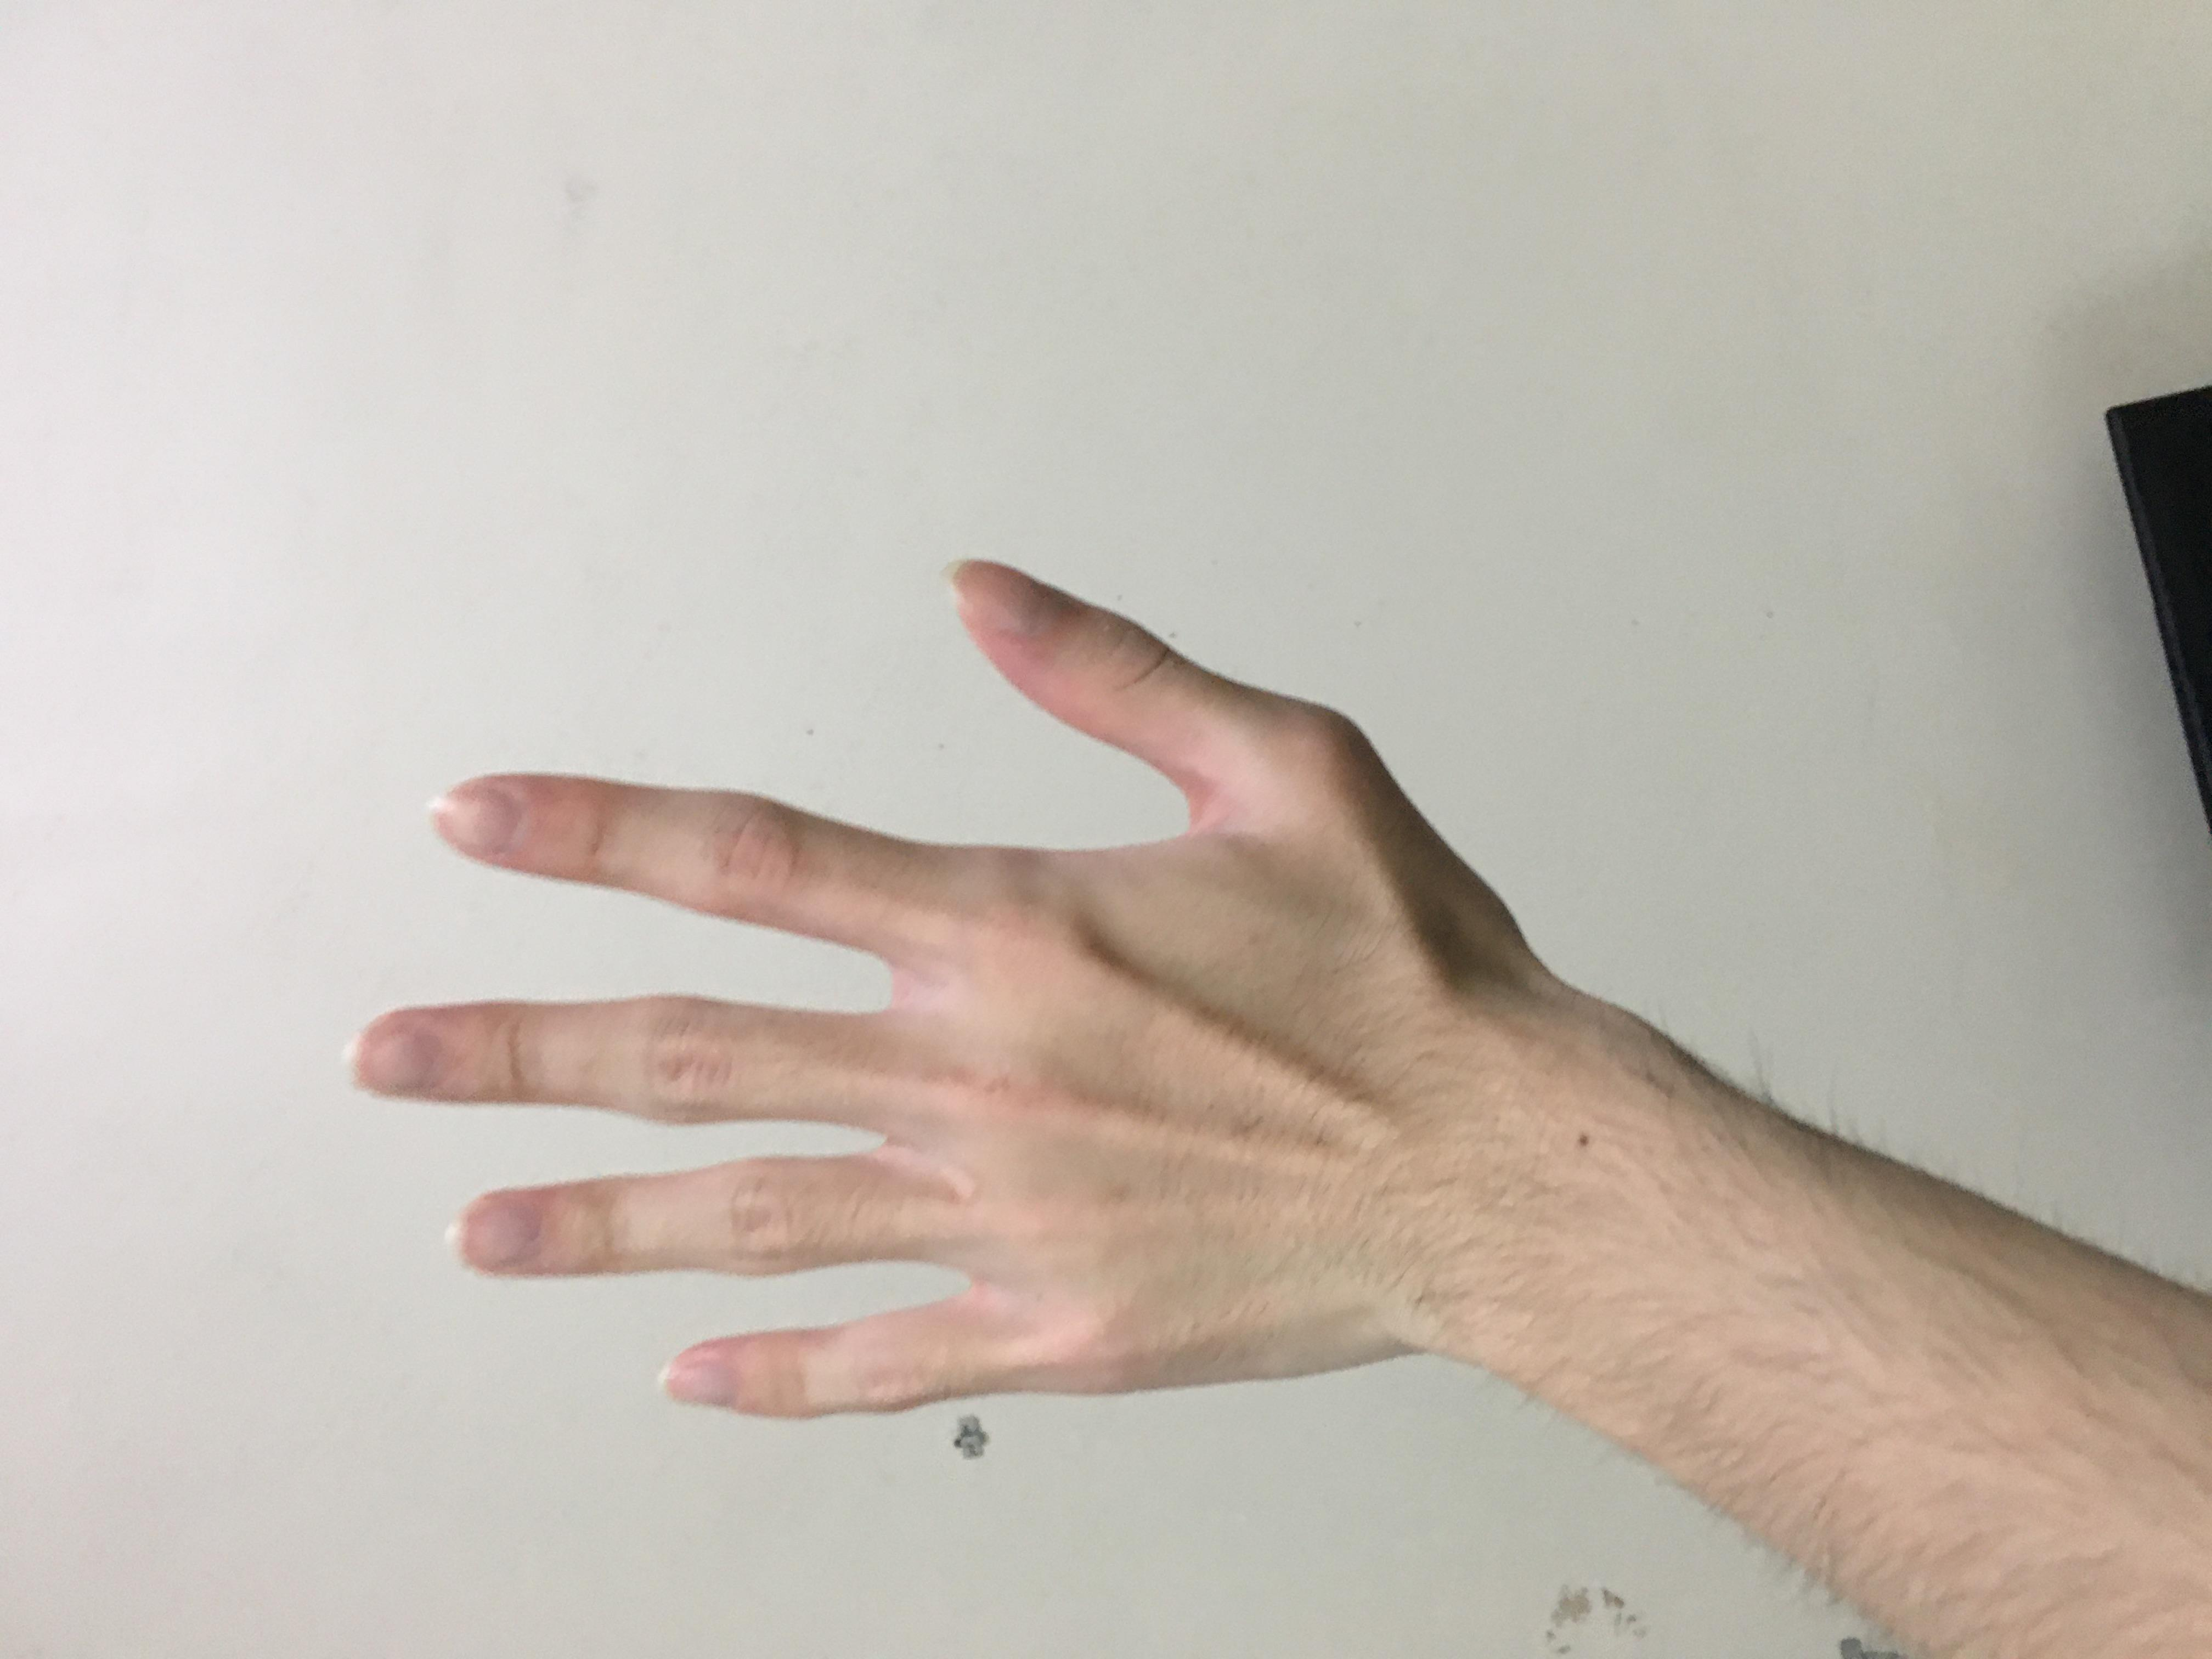hand: (315, 256, 1479, 1112)
